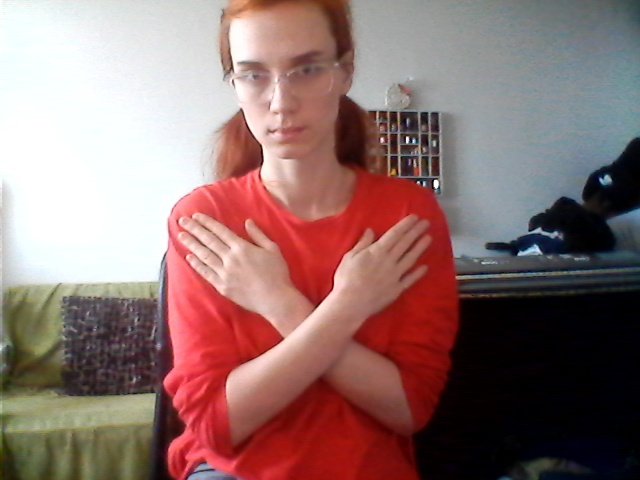z: (171, 202, 449, 446)
